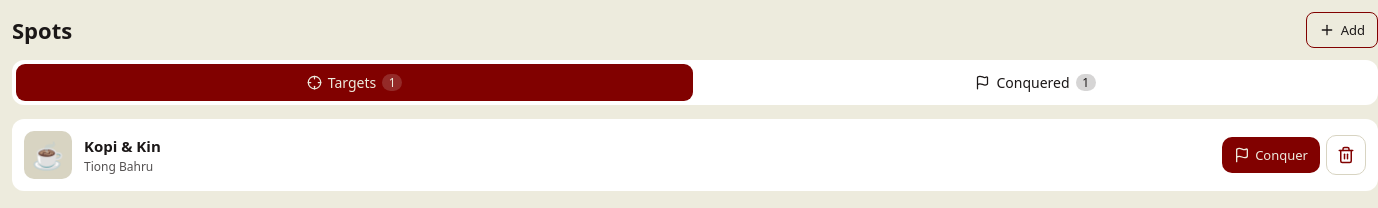
the Targets tab lists only Targets, and the Conquered tab lists only Conquered Spots
Expected: the heading "Kopi & Kin" is shown, x1=84 y1=136 x2=161 y2=156
Expected: the text "Beta" is not shown
Click the tab "Conquered 1" at point(1036, 82), box x1=697 y1=64 x2=1374 y2=101
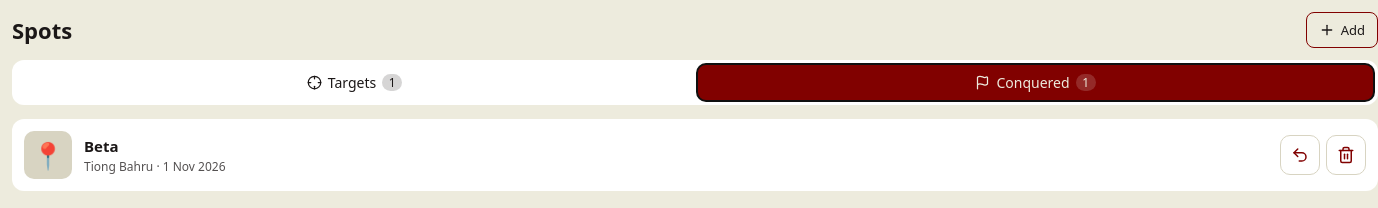
Expected: the heading "Beta" is shown, x1=84 y1=136 x2=118 y2=156
Expected: the heading "Kopi & Kin" is gone
